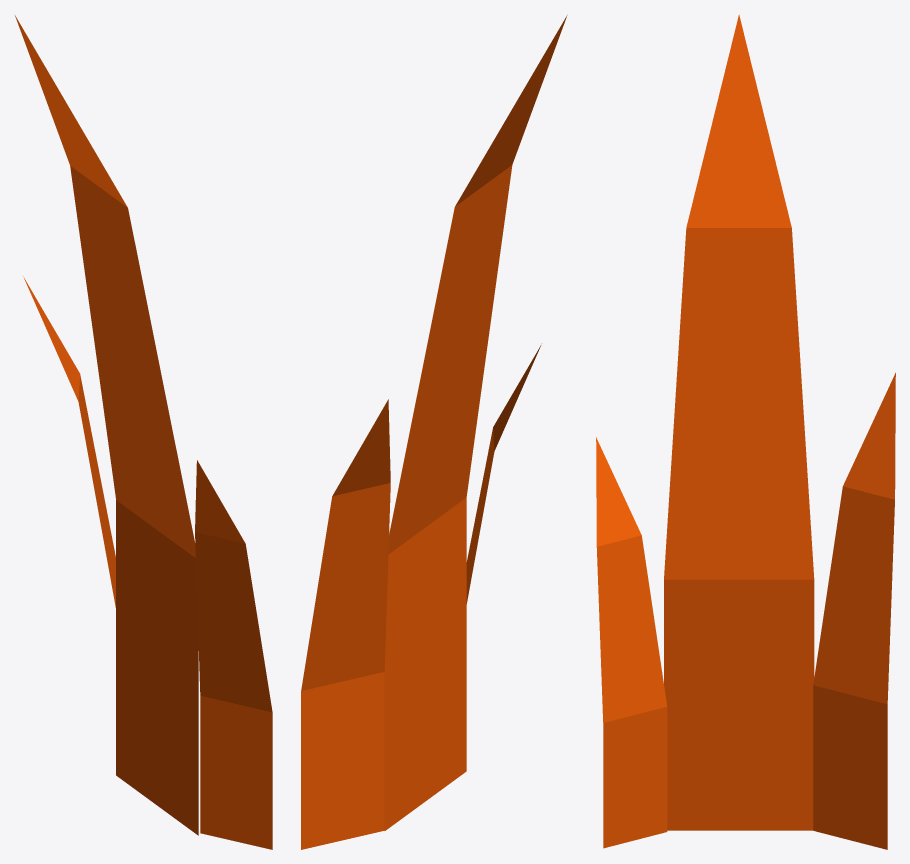
File: Grass_C_003.fbx
The picture shows the model from 3 angles, left to right: view 1: azimuth 30°, elevation 25°; view 2: azimuth 150°, elevation 25°; view 3: azimuth 270°, elevation 25°; orthographic projection. The views are drawn at different scales.
Visible parts, largest first — view 1: Grass C.003; view 2: Grass C.003; view 3: Grass C.003.
Part boxes in pixels (left/top/right/bottom): Grass C.003: left=15, top=15, right=272, bottom=849; Grass C.003: left=301, top=15, right=567, bottom=849; Grass C.003: left=596, top=14, right=895, bottom=849.
Bounding box in the file's own units: 6.67 × 28.24 × 10.18.
